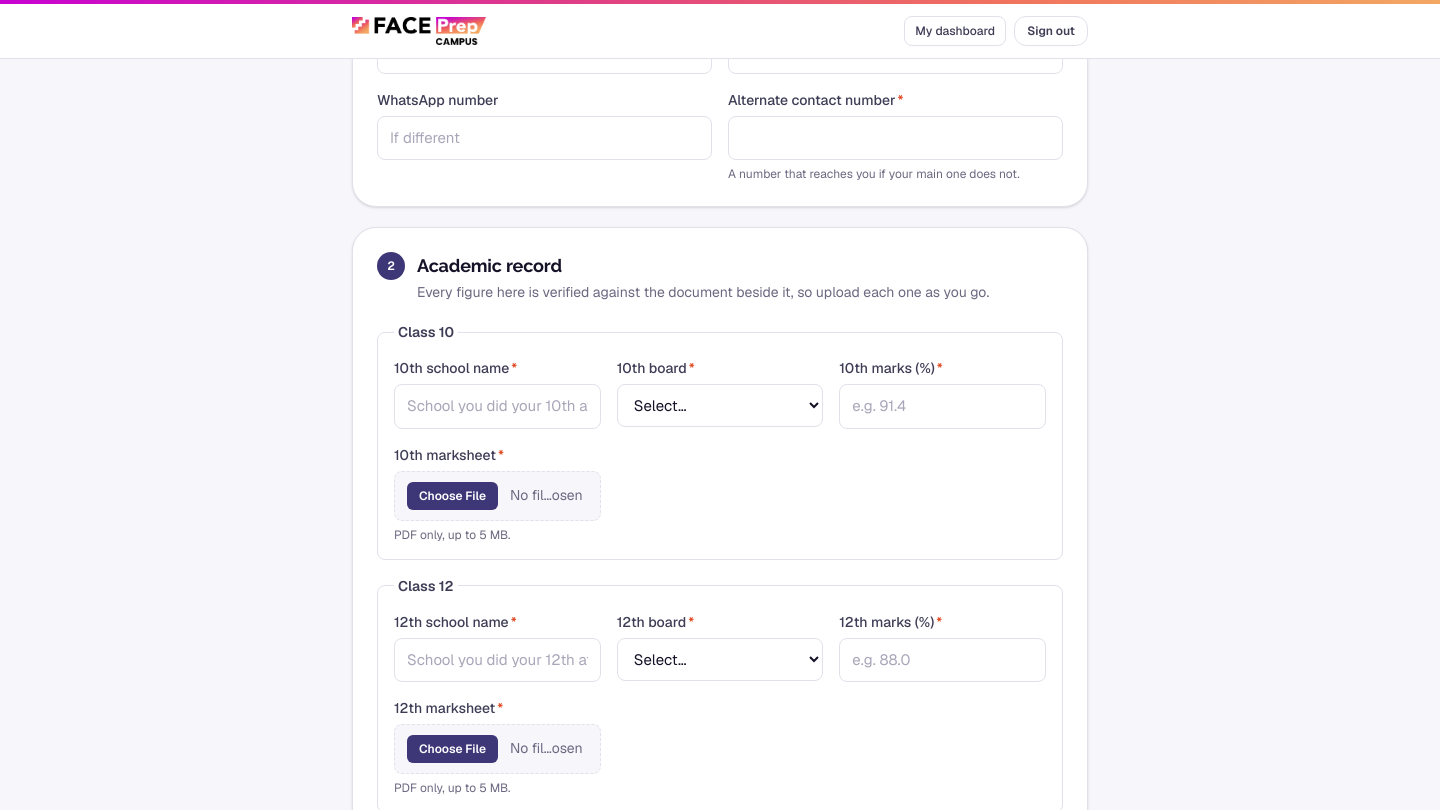
Test: SrfPage › academic section › renders grade input and makes percentage optional when Cambridge is selected
The width and height of the screenshot is (1440, 810).
(page scrolled)
Expected: the field labelled "10th grade" is not shown
Select "Cambridge (IGCSE / O-Level)" in the dropdown labelled "10th board*". click: (720, 406)
box: [617,384,823,427]
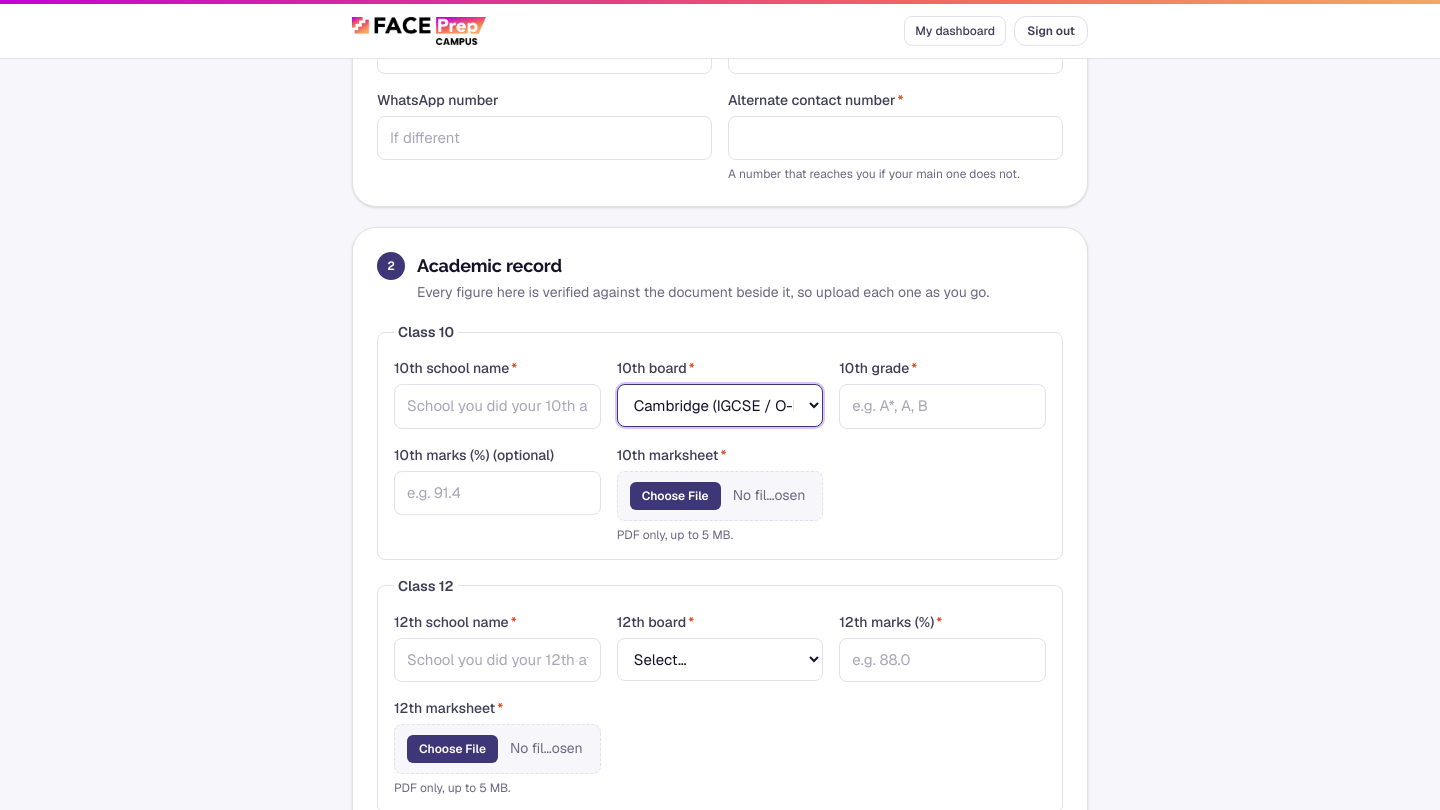
Expected: the number field labelled "10th marks (%) (optional)" is shown, [394,470,601,515]
Expected: the field labelled "10th grade*" is shown, [839,384,1046,428]
Select "Cambridge (A-Level)" in the dropdown labelled "12th board*". click: (720, 659)
box: [617,638,823,680]
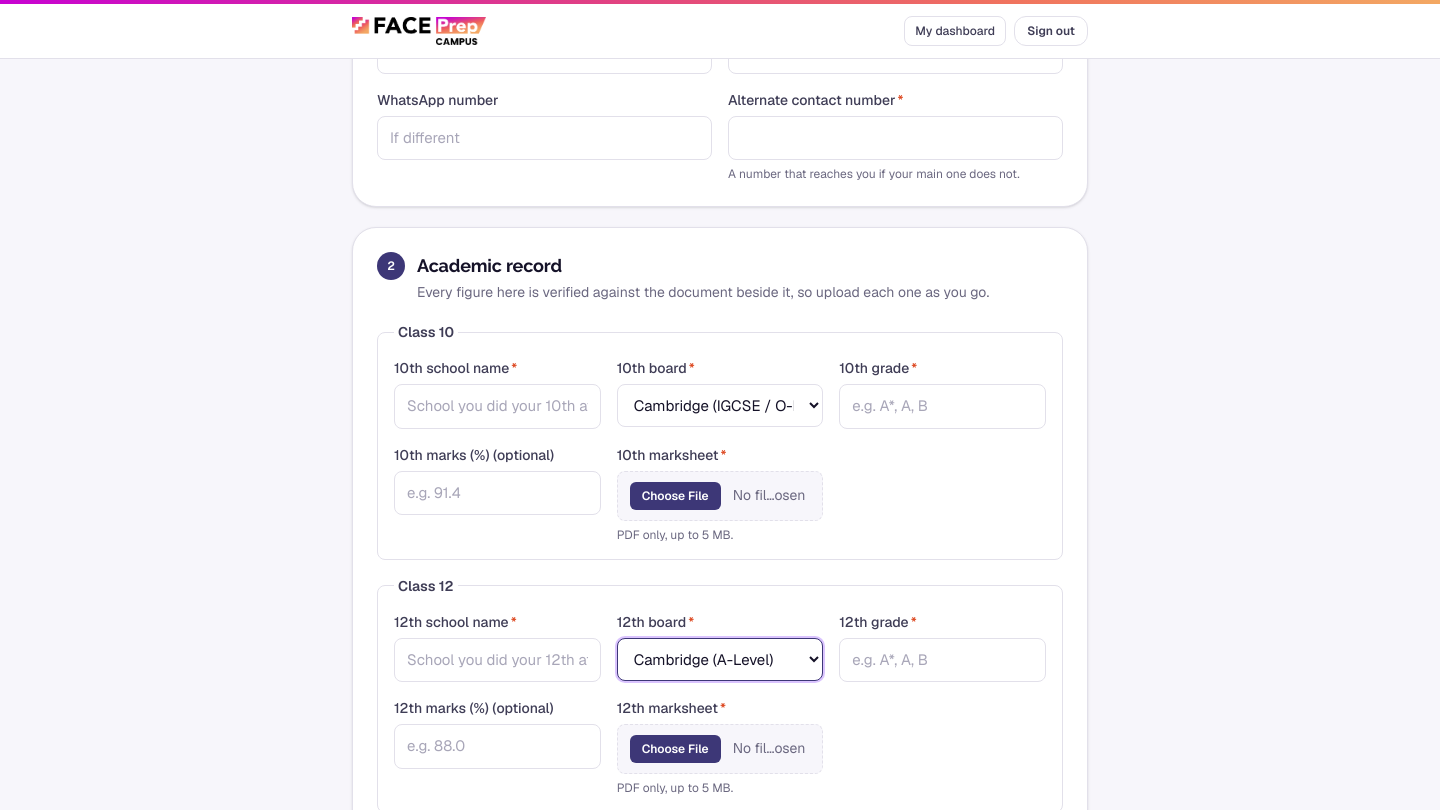
Expected: the number field labelled "12th marks (%) (optional)" is shown, [394,724,601,768]
Expected: the field labelled "12th grade*" is shown, [839,638,1046,682]
